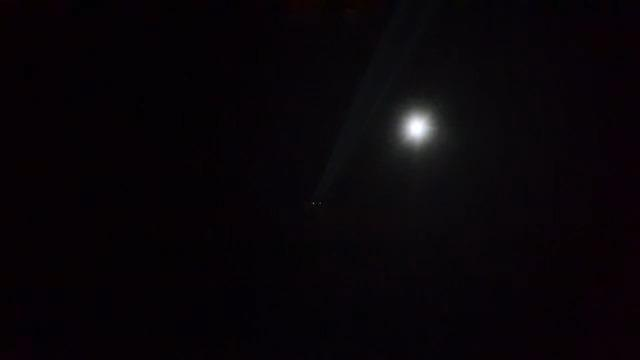Plane: (308, 189, 332, 209)
